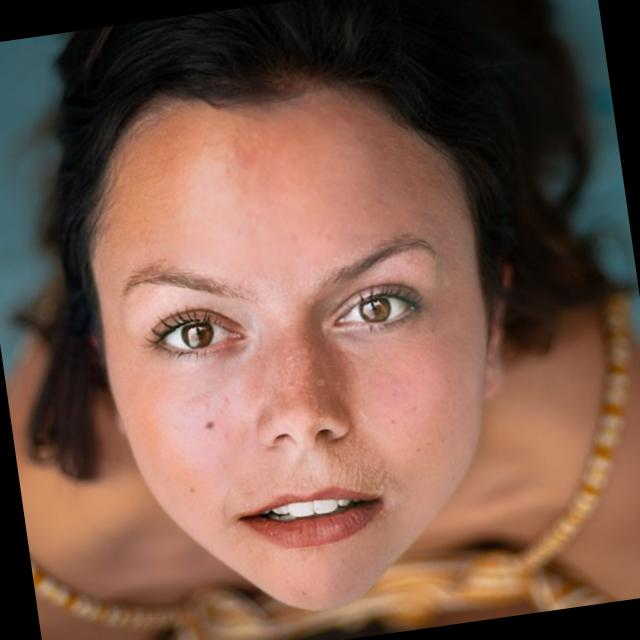face: (36, 34, 553, 640)
